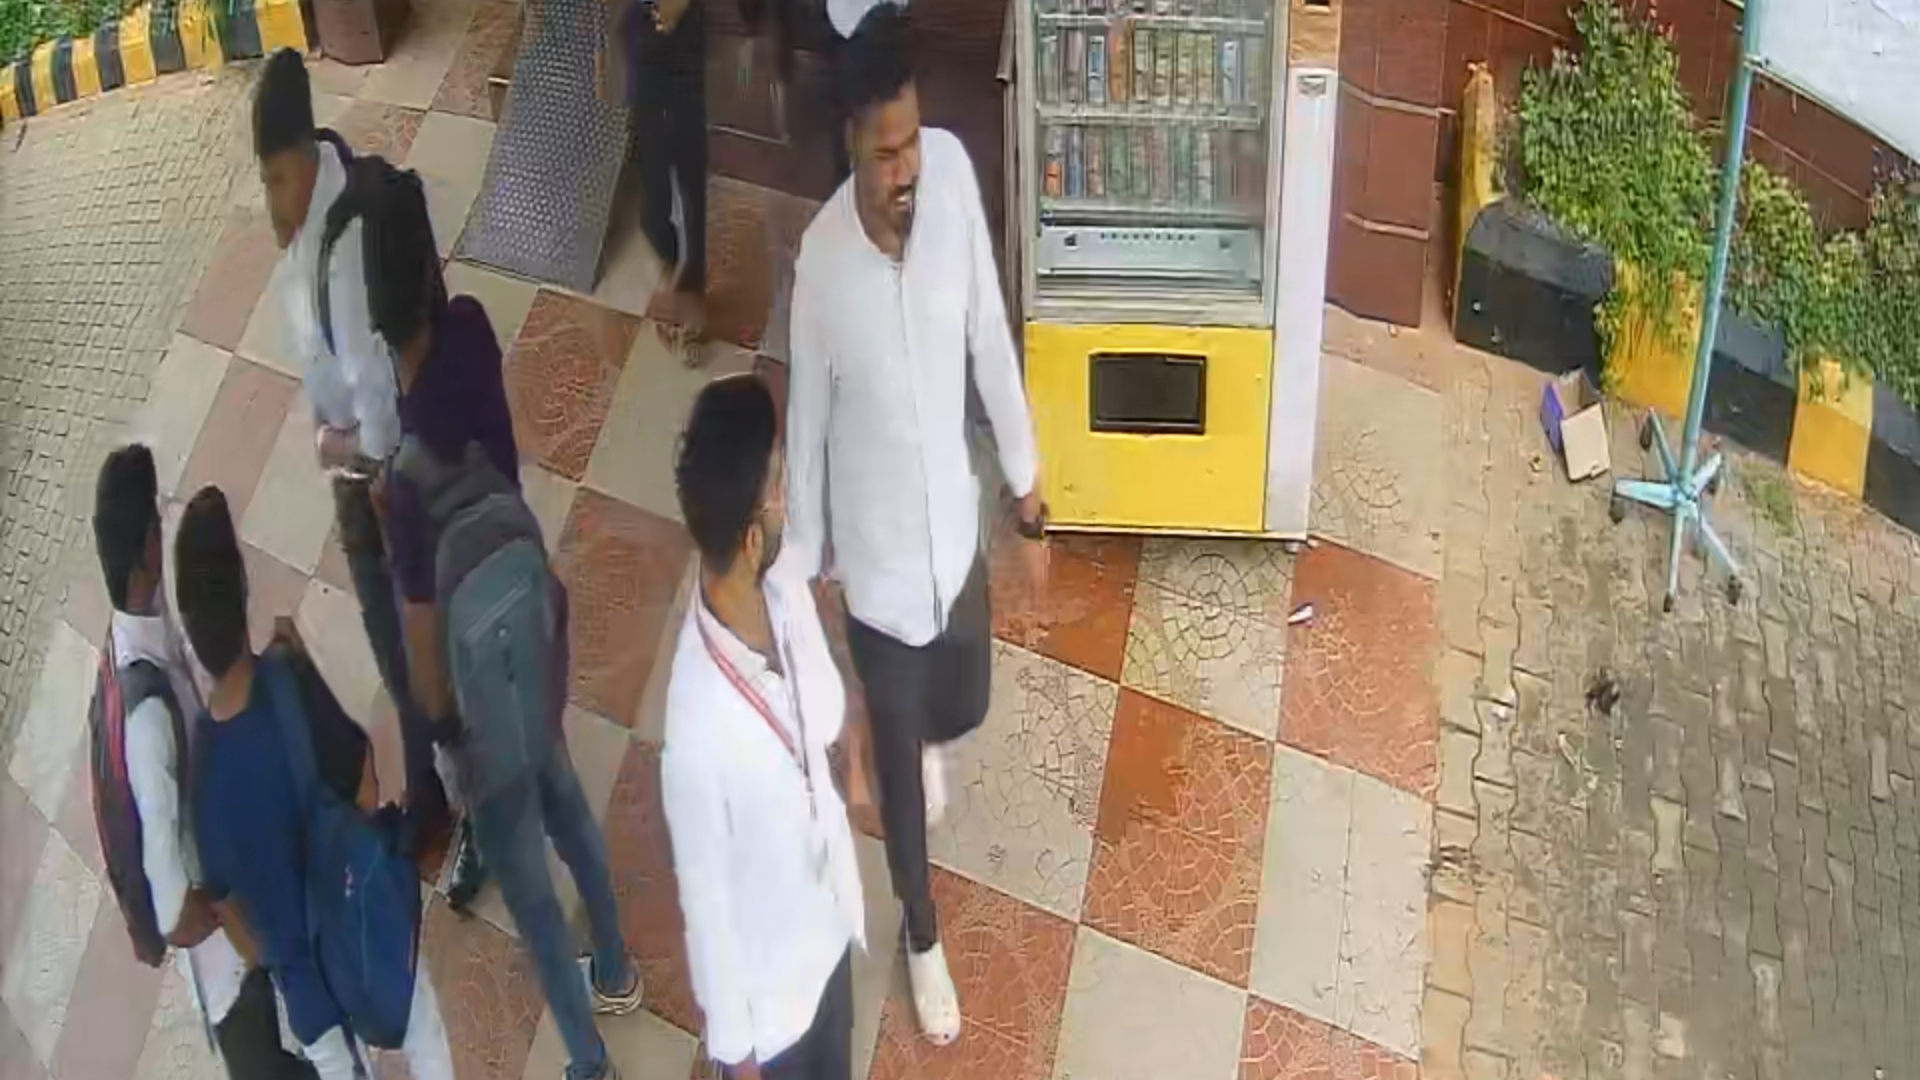intruder: (802, 18, 1000, 1080)
not intruder: (661, 388, 884, 1080)
